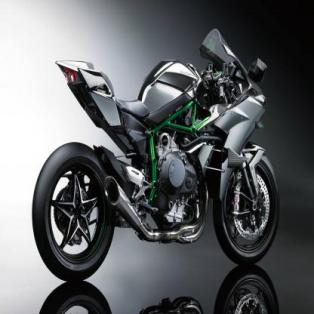Motocicleta: (27, 20, 285, 284)
